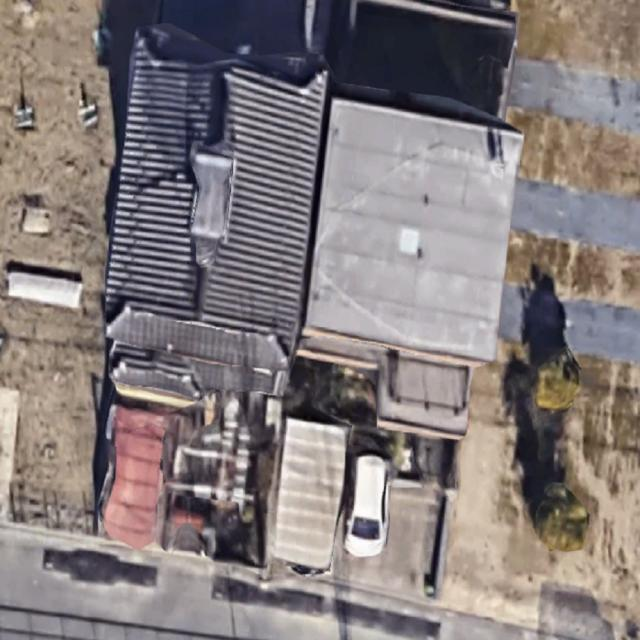Batiment: (106, 27, 328, 353), (306, 99, 522, 364), (272, 418, 348, 570)
